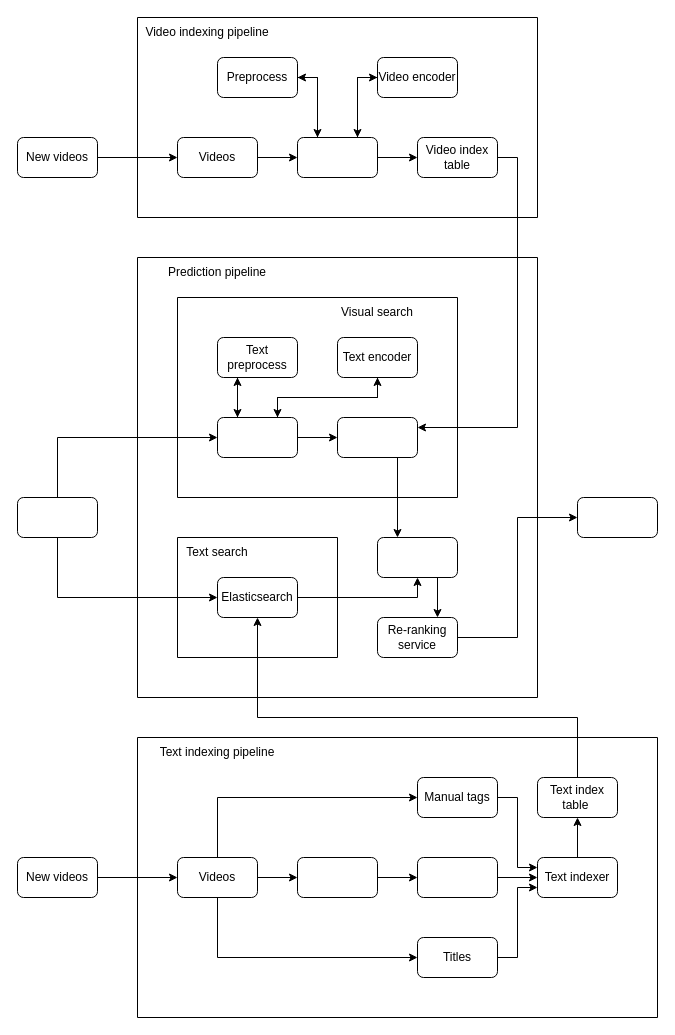
Image size: 675x1035. Some labels were removed from this diagram. Here are the shapes that lost their labels. From the top down, the centre of each, then its label:
point (337, 157): Video indexer
point (257, 437): Text embedding computation
point (377, 437): Nearest neighbor service
point (57, 517): Text query
point (617, 517): Search results
point (417, 557): Fusing
point (337, 877): Auto-tagger
point (457, 877): Auto-generated-tags
